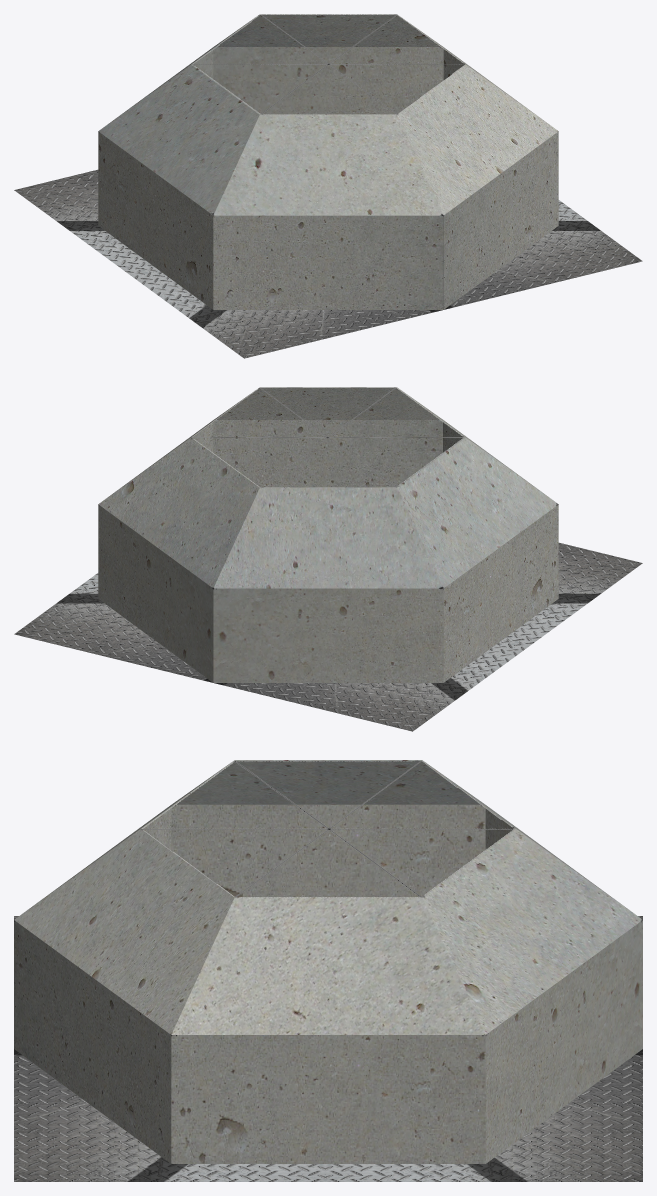
File: Arena.dae
3 renders of one model, top to bottom at view 1: azimuth 30°, elevation 25°; view 2: azimuth 150°, elevation 25°; view 3: azimuth 270°, elevation 25°, orthographic. The views are drawn at different scales.
Visible parts, largest first — view 1: arena_mesh; view 2: arena_mesh; view 3: arena_mesh.
Part boxes in pixels (left/top/right/bottom): arena_mesh: left=14, top=14, right=642, bottom=358; arena_mesh: left=14, top=387, right=642, bottom=731; arena_mesh: left=14, top=760, right=642, bottom=1181.
Bounding box in the file's own units: 61.8 × 61.8 × 23.86.
1 material, 1 textured.
